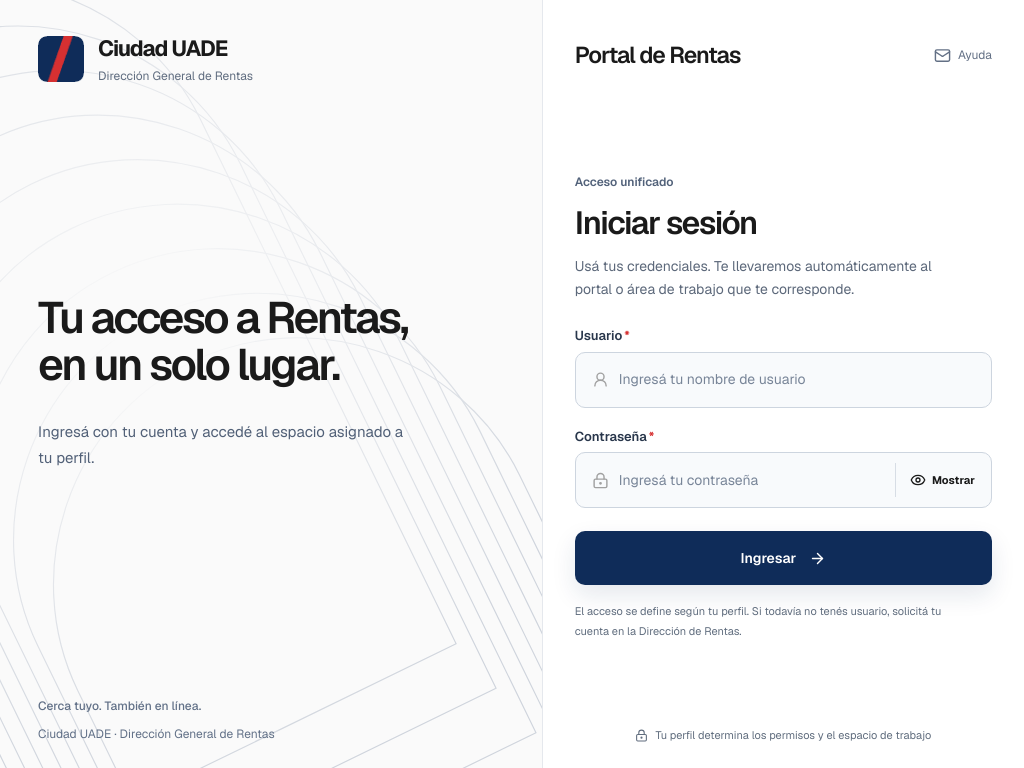
it: ventanilla de caja › abre el panel de caja con los cuatro módulos de ventanilla
This screenshot has width=1024, height=768.
In the field labelled "Usuario*": (797, 380) [619,366,975,394], type "pcabrera"
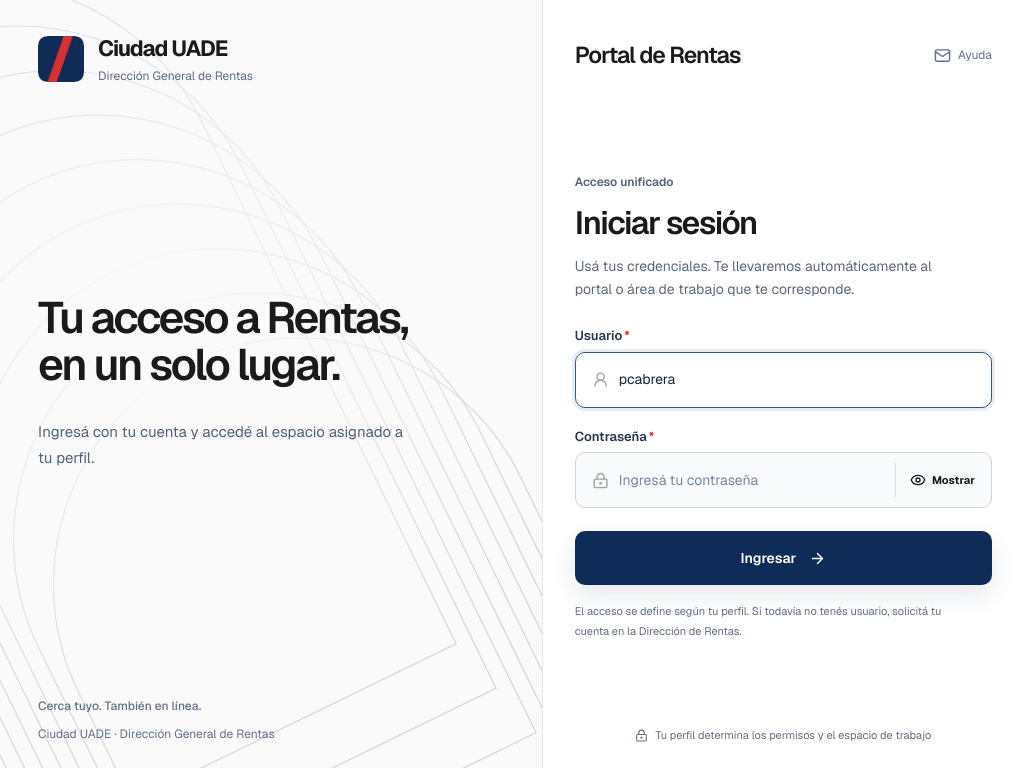
In the password field labelled "Contraseña*": (750, 480) [619,466,881,494], type "caja123"
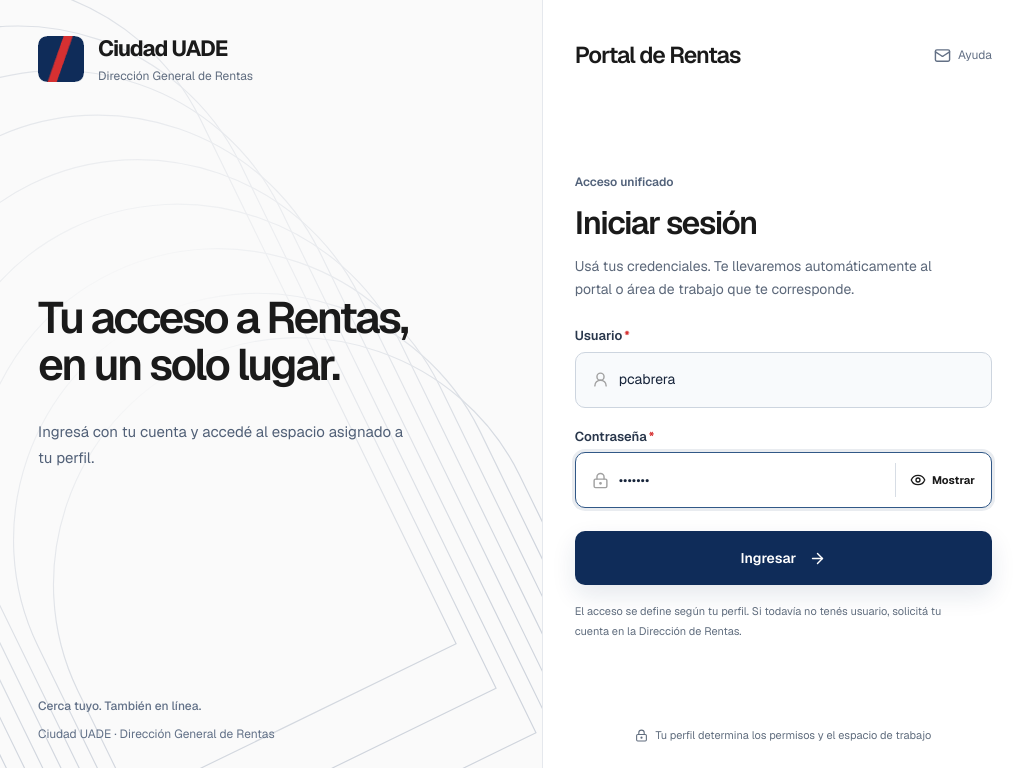
Click the button "Ingresar": (783, 558) [575,531,992,585]
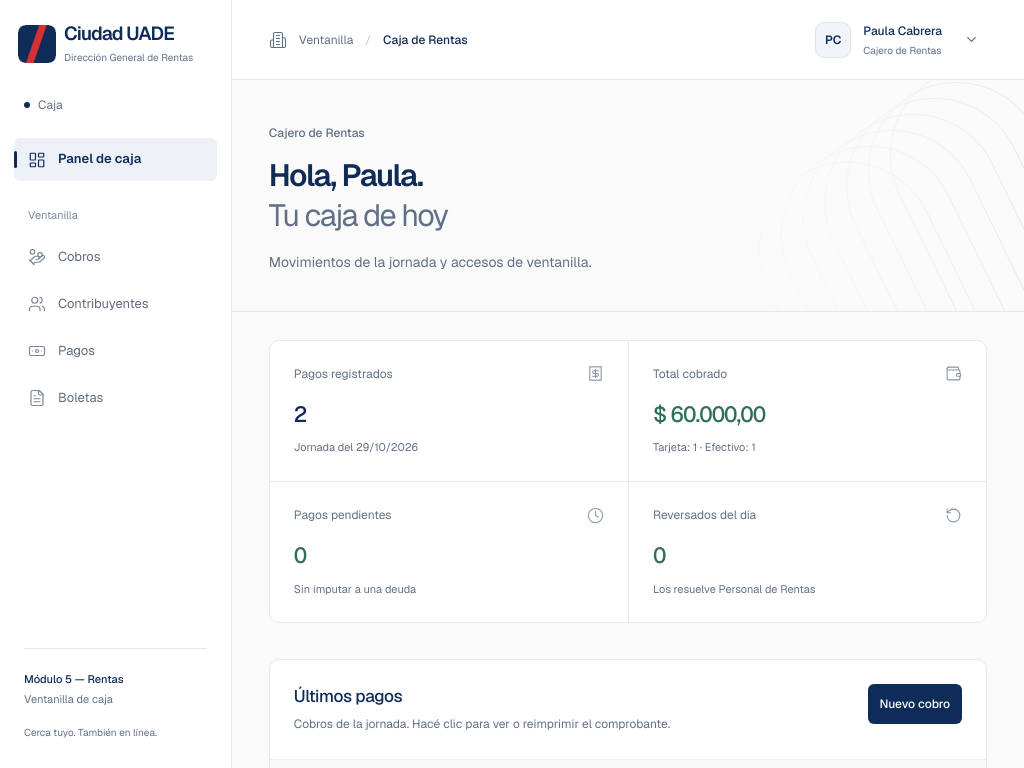
Now the heading "Hola, Paula. Tu caja de hoy" is shown, box [269,155,448,235]
Now the link "Cobros" is shown, box [28,248,100,266]
Now the link "Contribuyentes" is shown, box [28,295,148,313]
